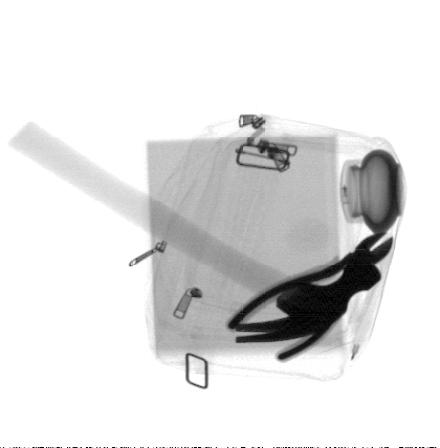Hammer: (7, 122, 381, 345)
Pliers: (226, 231, 393, 365)
